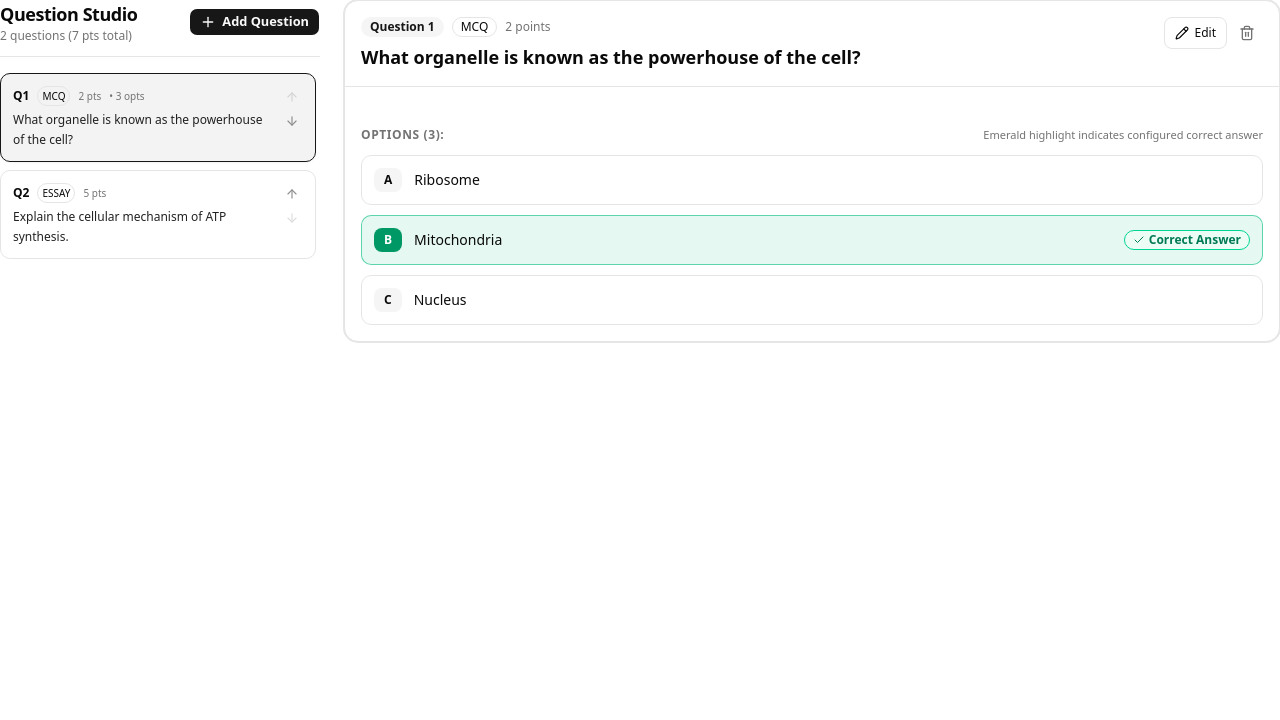
Test: QuestionManager Component › Creating a Question (MCQ) › creates a new MCQ with options and updates list
Click the button "Add Question": (255, 22) top-left (189, 8), bottom-right (320, 36)
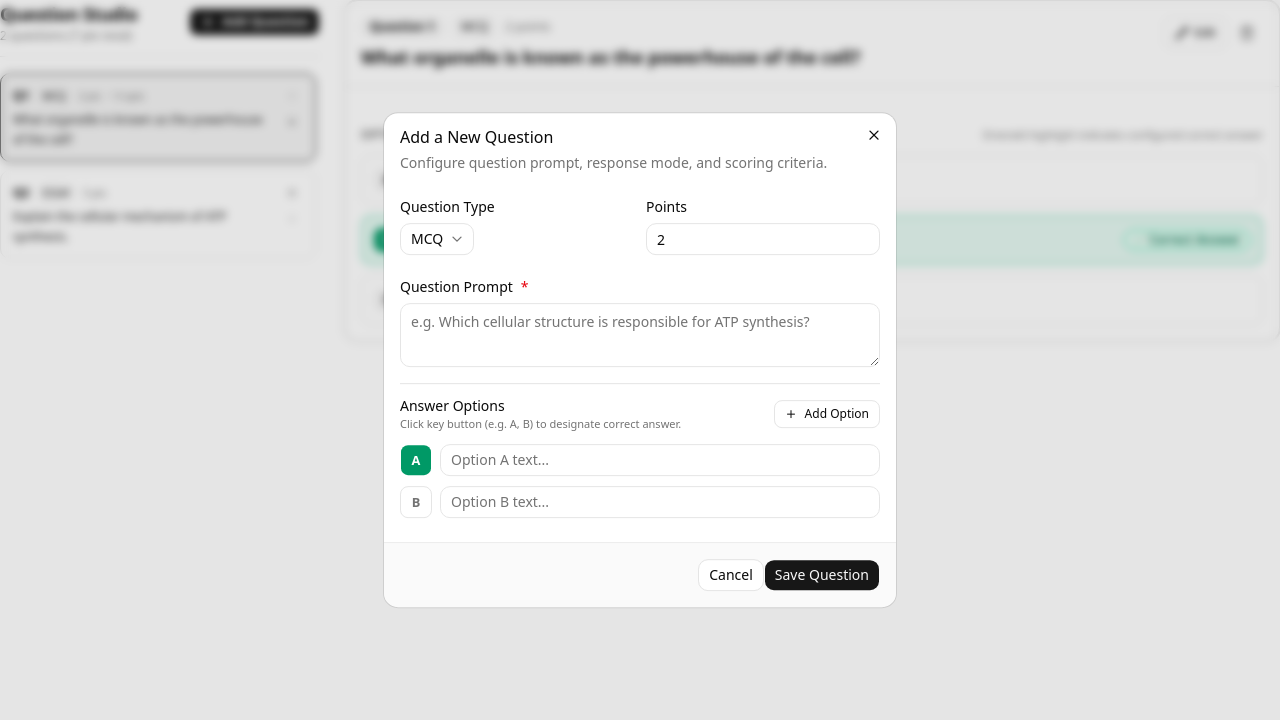
# Fill in prompt
Replace the text in the text box labelled "Question Prompt *" with "What is the capital of France?": (640, 335) top-left (400, 303), bottom-right (880, 367)
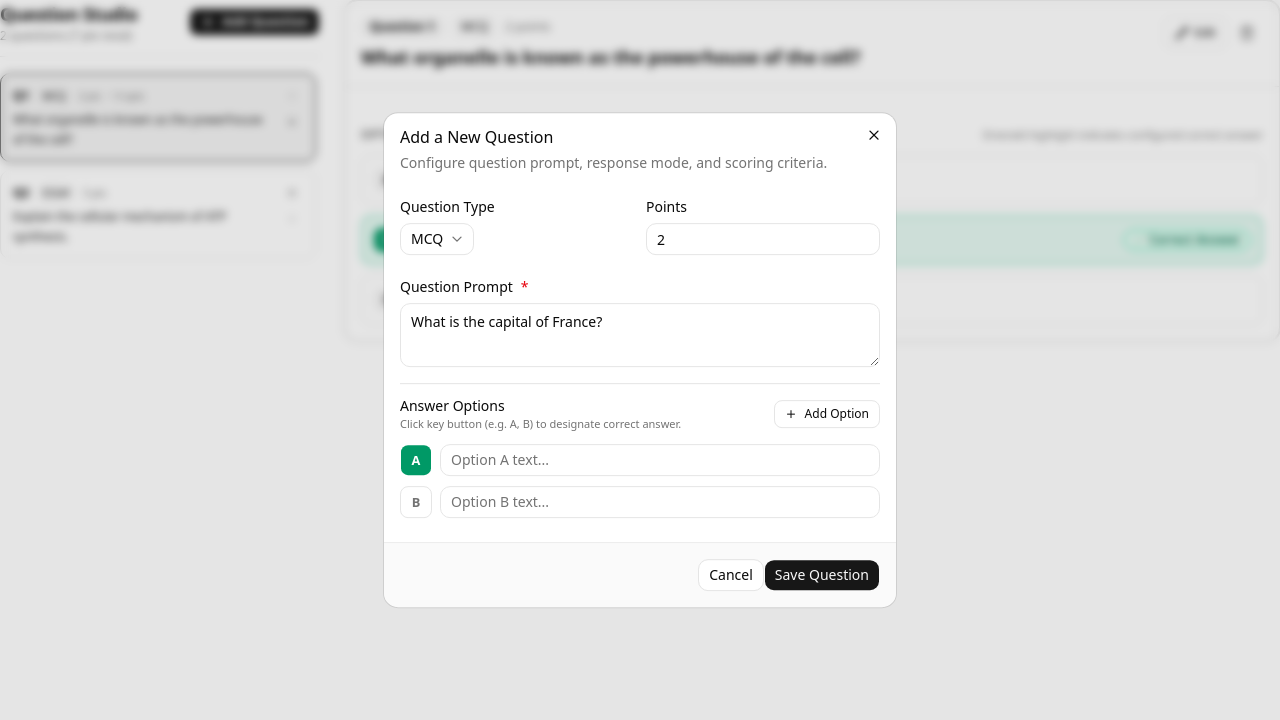
# Fill in options
In the field labelled "Option A text": (660, 460) top-left (440, 444), bottom-right (880, 476), type "Berlin"
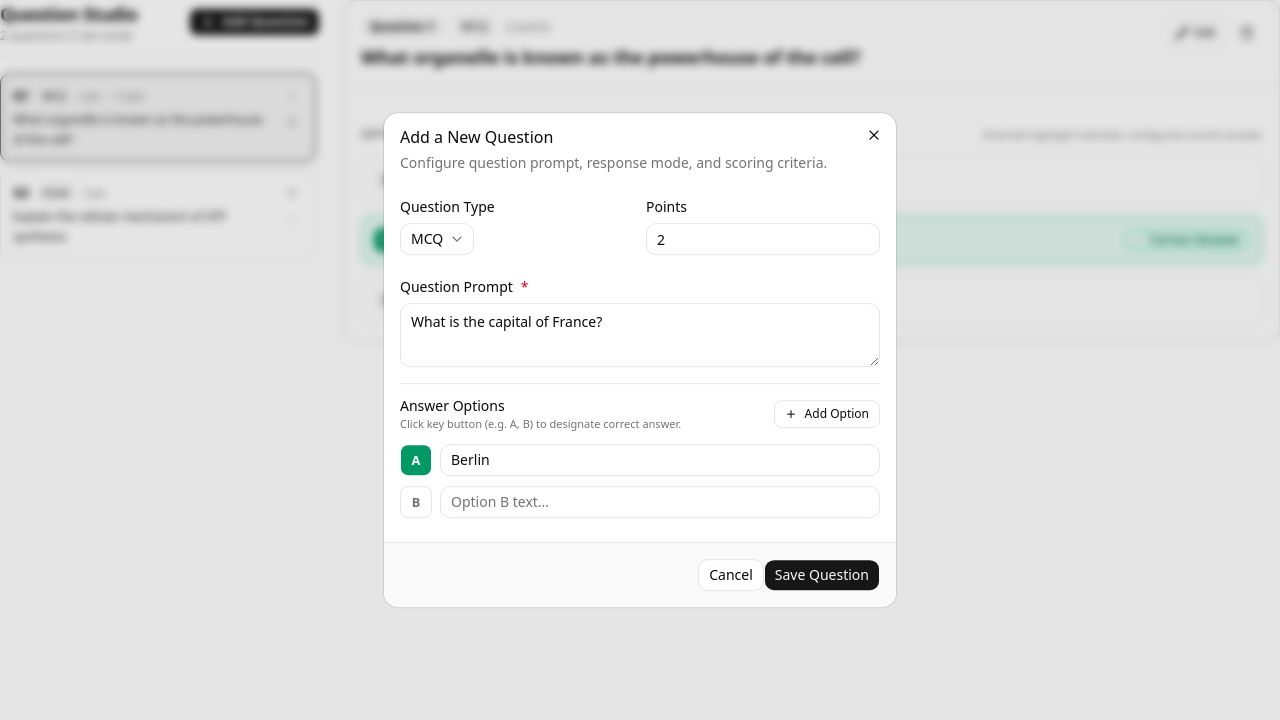
In the field labelled "Option B text": (660, 502) top-left (440, 486), bottom-right (880, 518), type "Paris"
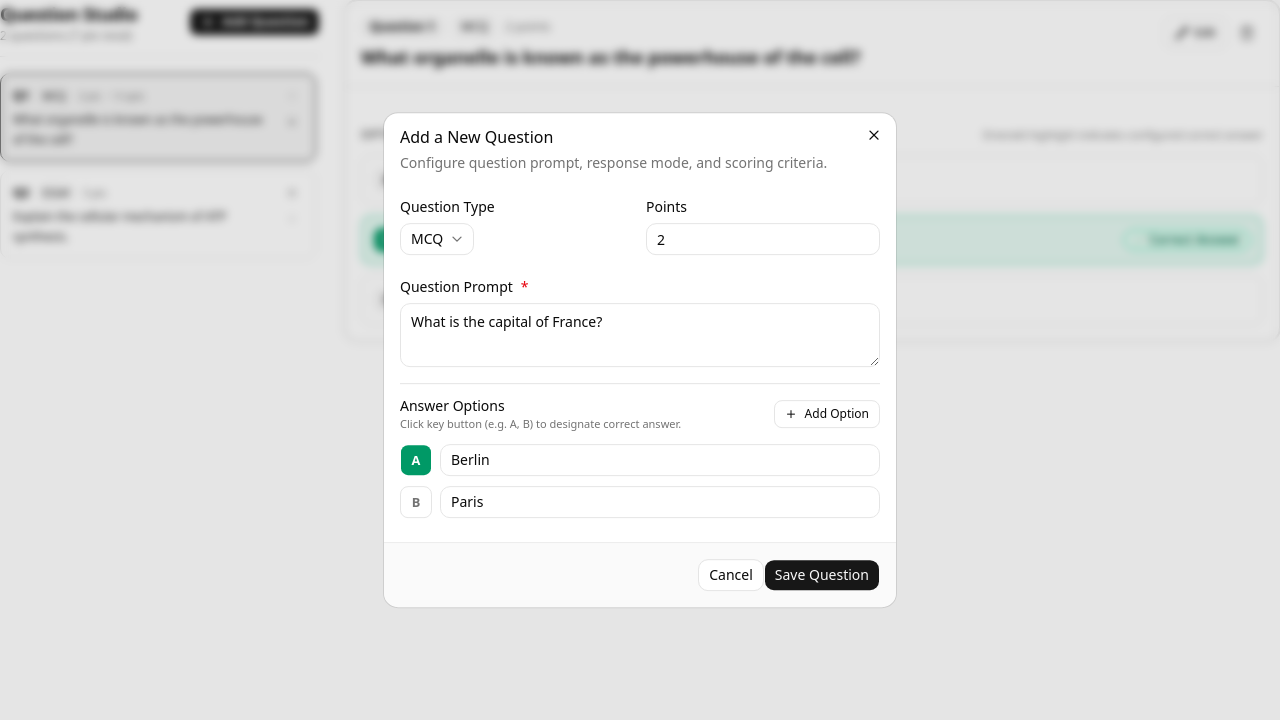
# Mark option B as correct
Click the button named "Option B": (416, 502) top-left (400, 486), bottom-right (432, 518)
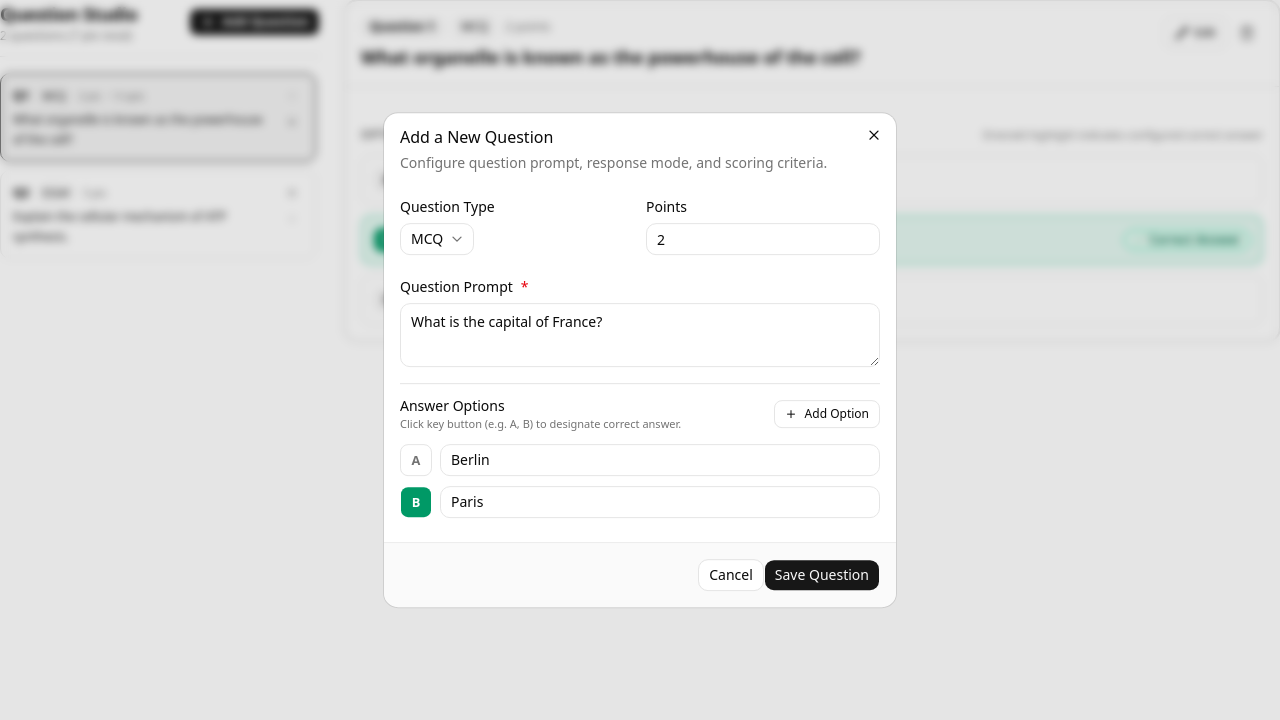
# Save question
Click the button "Save Question": (822, 575) top-left (764, 559), bottom-right (880, 591)
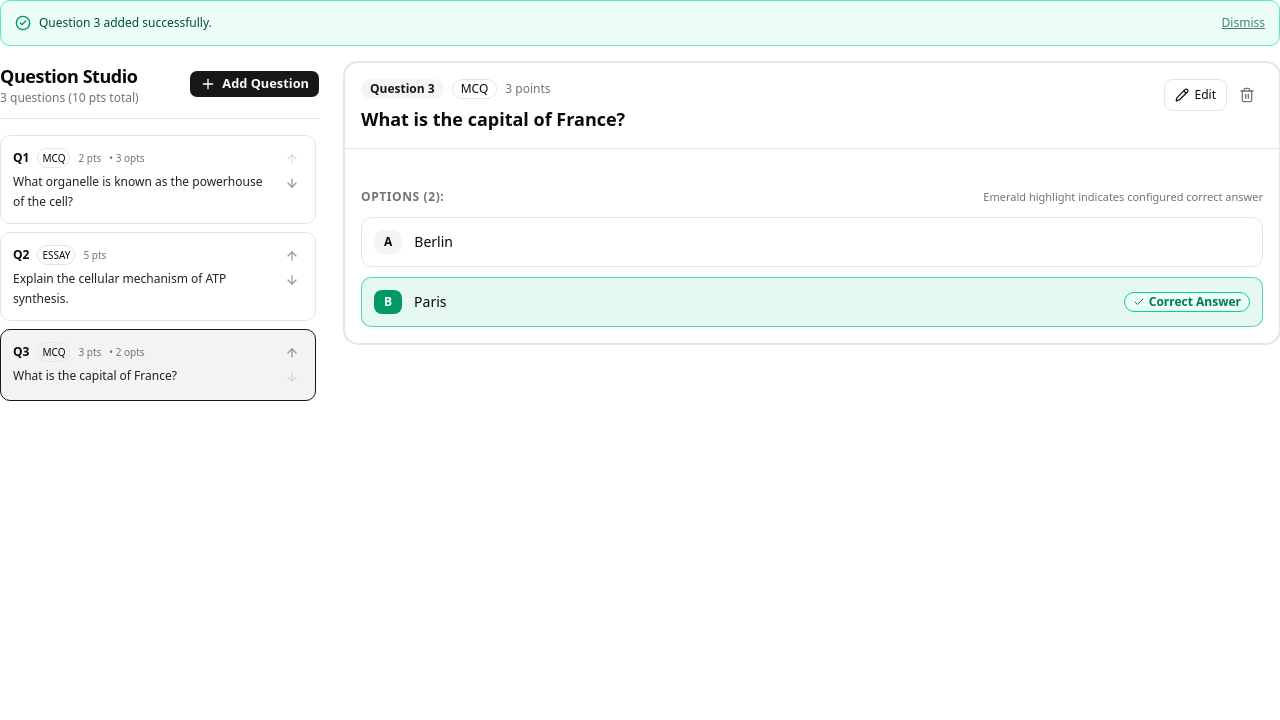
Check: the text "Question 3 added successfully." is shown, box top-left (39, 15), bottom-right (212, 31)
Check: the heading "What is the capital of France?" is shown, box top-left (361, 107), bottom-right (625, 132)
